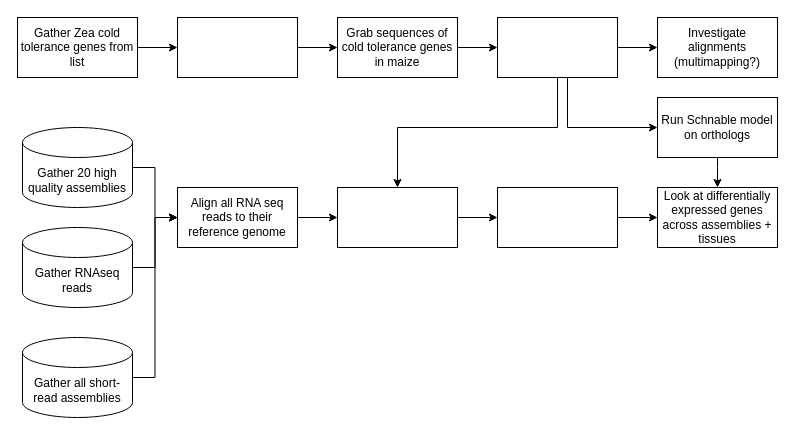
Image size: 795x435. Some labels were removed from this diagram. Each missing label, with the box of its shape:
Align to tribe genomes to get orthologs across species: (496, 16, 618, 78)
Call differential expression on orthologs.: (496, 186, 618, 248)
Create counts of gene expression based on orthologs: (336, 186, 458, 248)
Select 3-4 most interesting genes: (176, 16, 298, 78)
